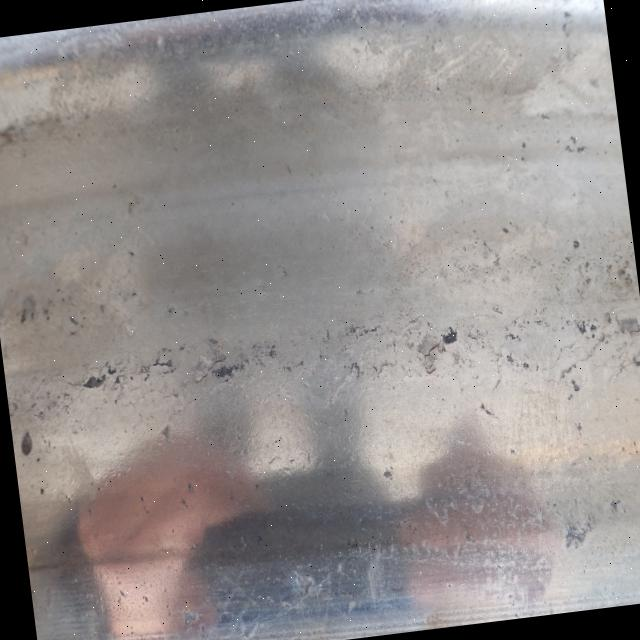Contact_Fatigue_Cracks: (531, 331, 612, 390), (82, 354, 174, 392), (486, 312, 527, 381), (267, 360, 326, 395), (369, 345, 404, 386), (617, 349, 640, 375)
Peeling: (417, 325, 462, 380), (190, 348, 237, 386), (611, 311, 640, 342)
